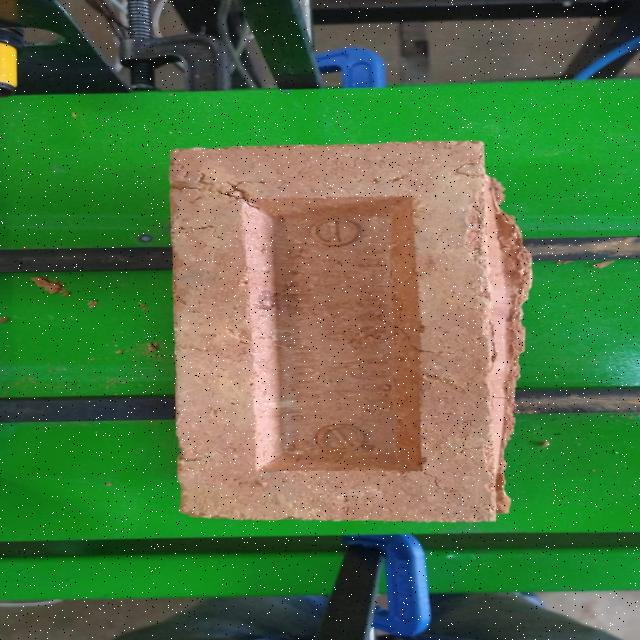bricks_ruin: (171, 140, 531, 524)
